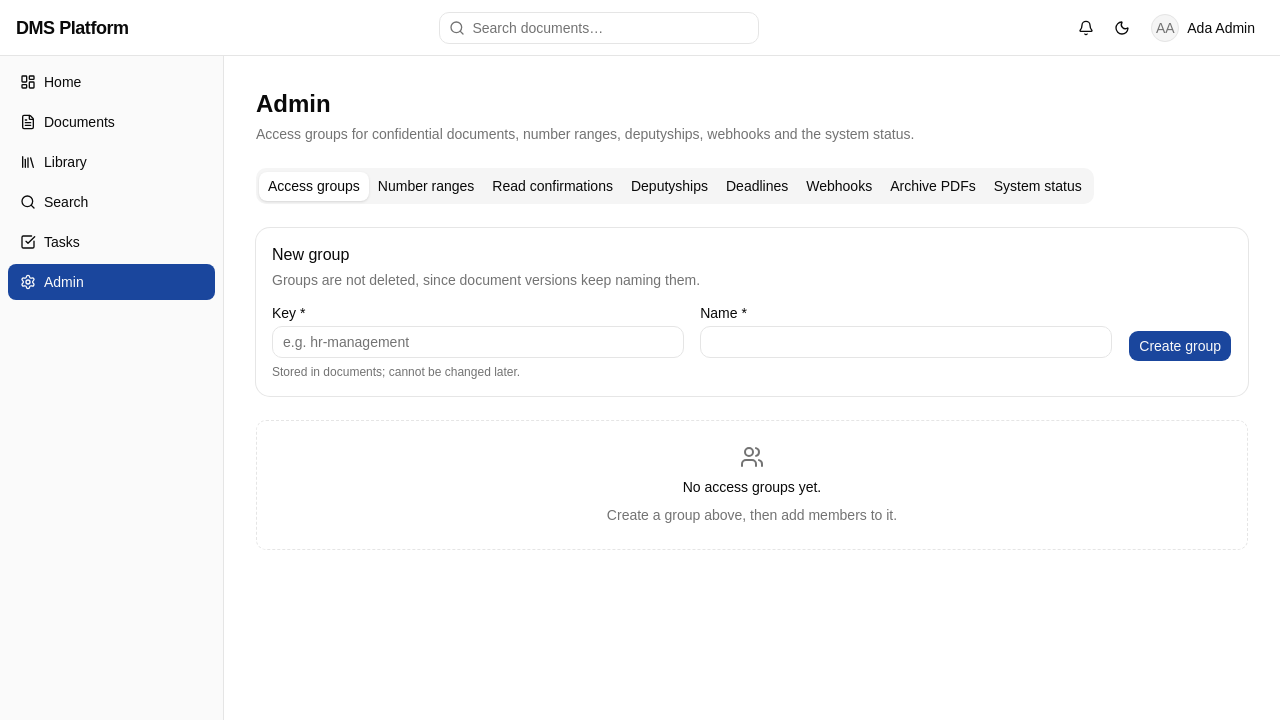
Scenario: admin: number ranges (DMS-113) › cancels numbering existing documents without running it
Step 1. Click the tab "Number ranges" → (426, 186), box [369,172,483,200]
(page scrolled)
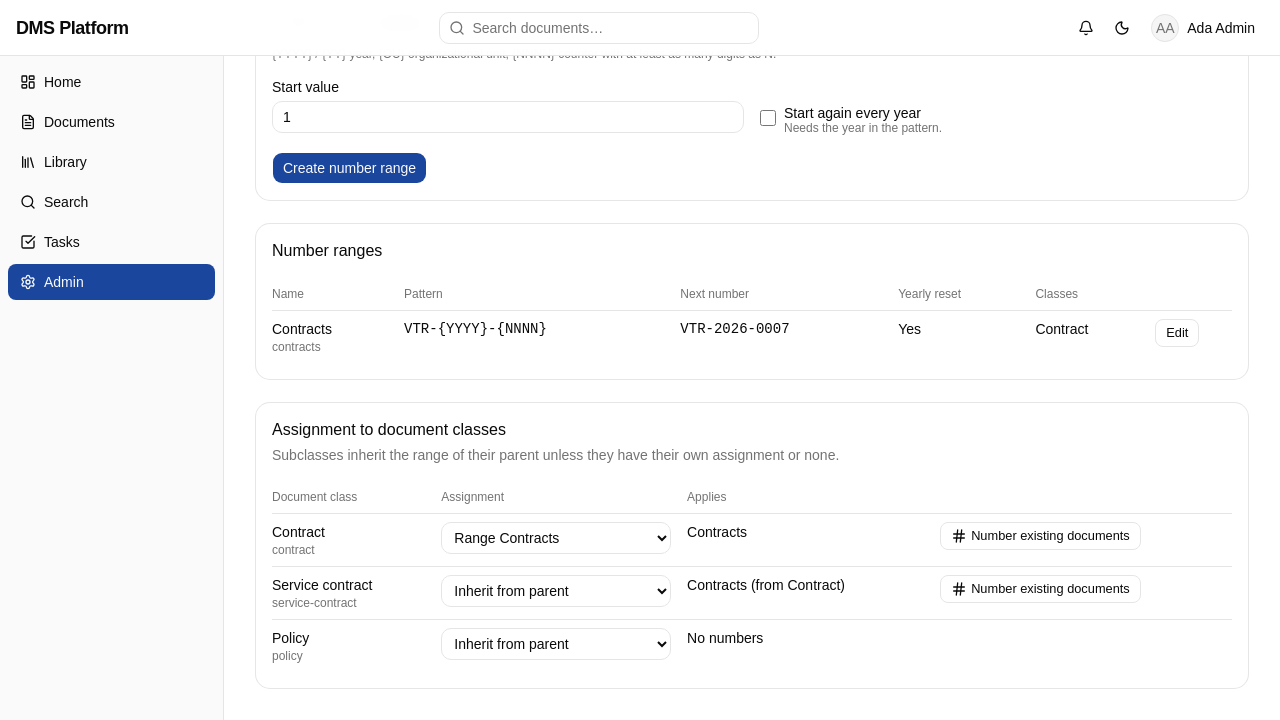
Expected: the table named "Document classes and their number range" is shown, [272,481,1232,672]
Step 2. Click the button with aria-label "Number the existing documents of Service contract" → (1040, 589), box [940,575,1141,603]
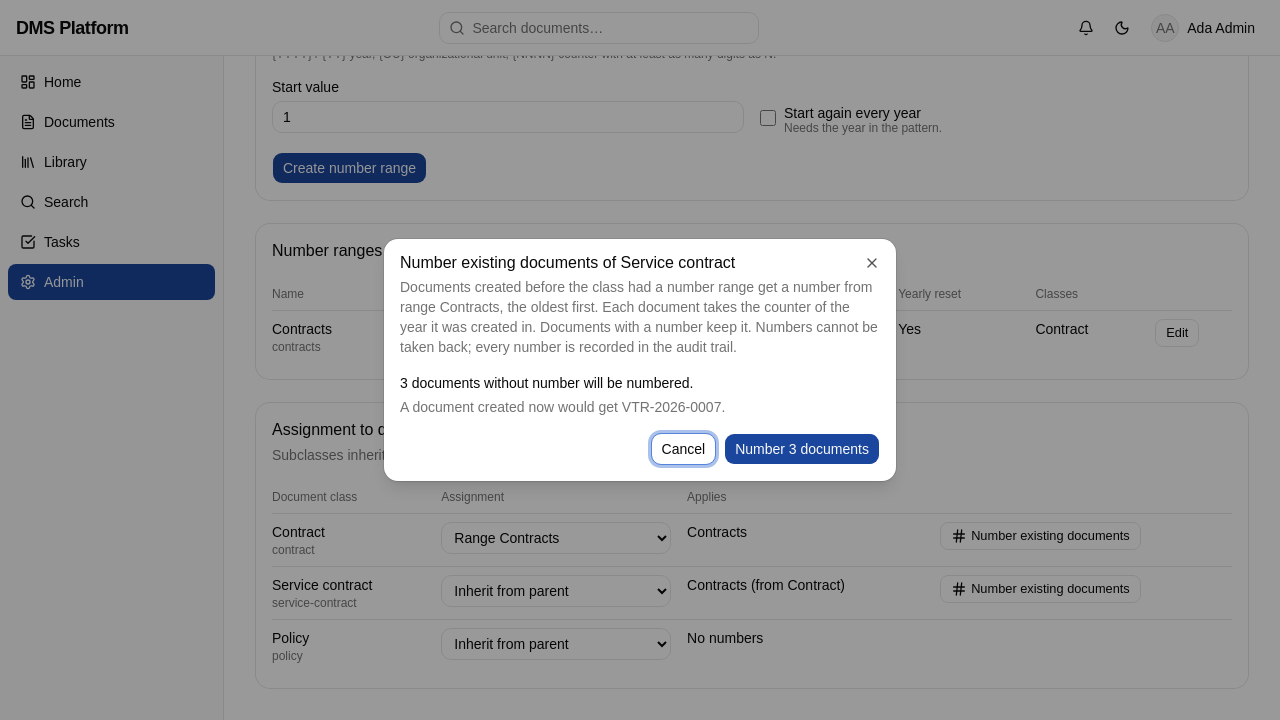
Expected: the element with test id "backfill-preview" is shown, [400,375,725,415]
Step 3. Click the button "Cancel" → (683, 449), box [651,433,716,465]
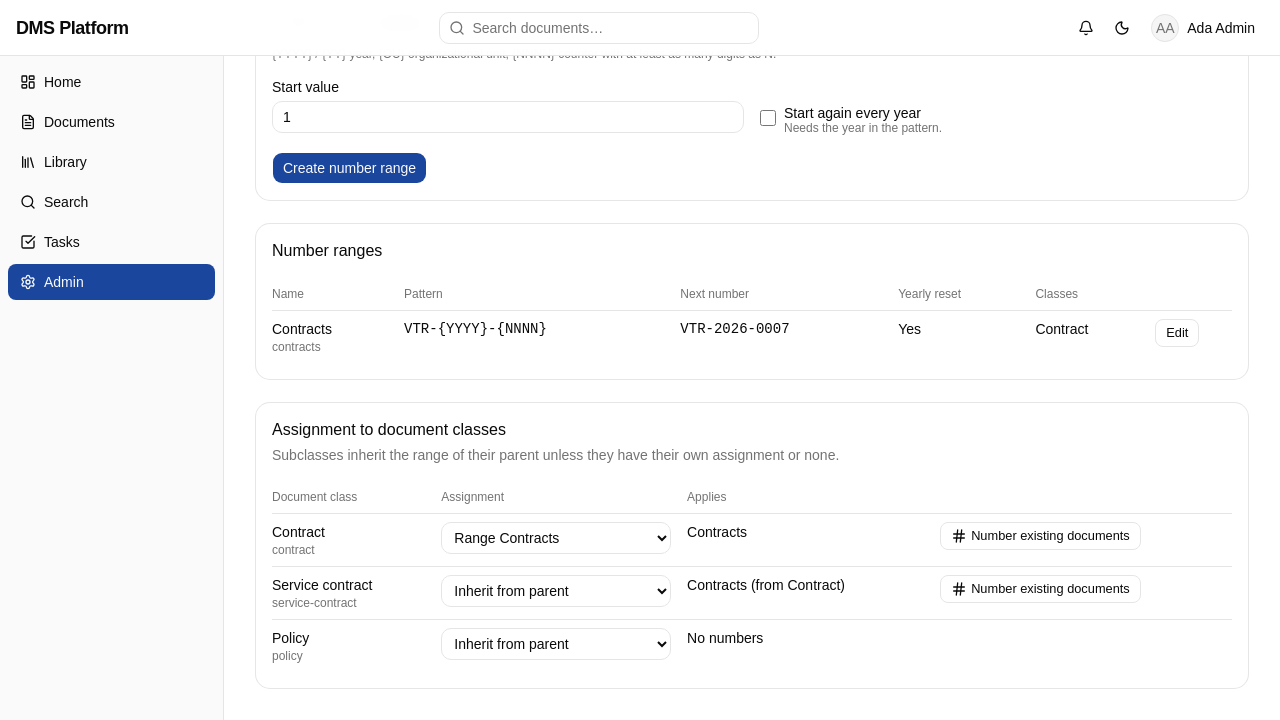
Expected: the dialog is gone
